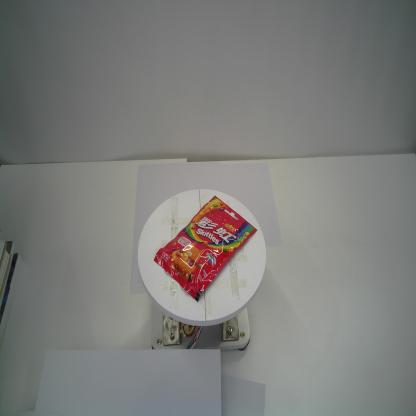Candy: (152, 194, 259, 302)
